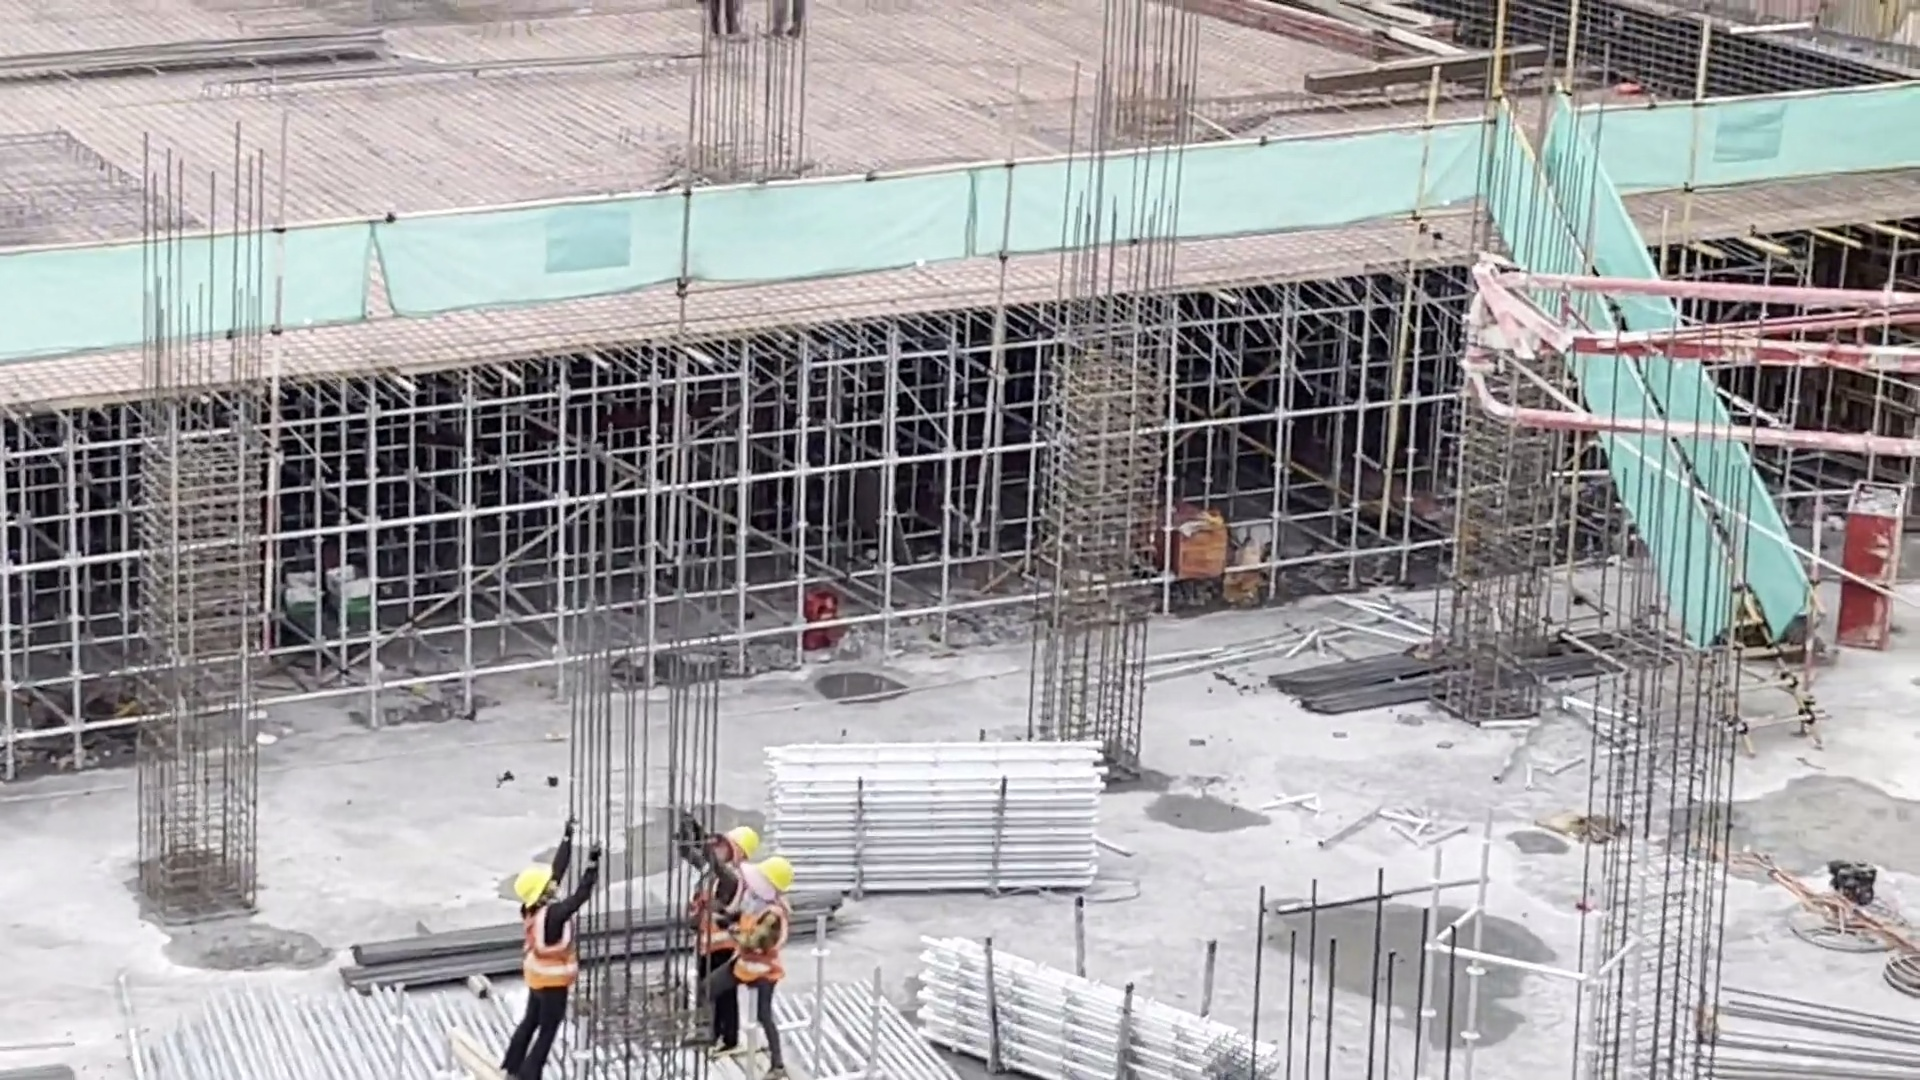helmet: (511, 863, 551, 911), (758, 854, 796, 894), (727, 827, 758, 859)
person: (495, 858, 579, 1080), (678, 824, 756, 1037), (728, 850, 797, 1074)
rebar: (338, 880, 855, 997), (1264, 635, 1619, 719)
scaffold: (153, 961, 928, 1080), (743, 732, 1123, 912), (896, 924, 1266, 1080)
vest: (737, 897, 789, 985), (686, 871, 744, 948), (521, 916, 573, 986)
